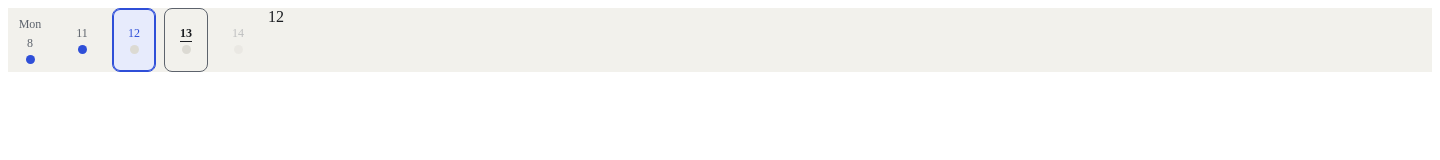
Test case: given day cells › when a cell is selectable › should expose aria-pressed and move it on click
Click the button named "October 11". click: coordinates (82, 40)
box: top-left (60, 8), bottom-right (104, 72)
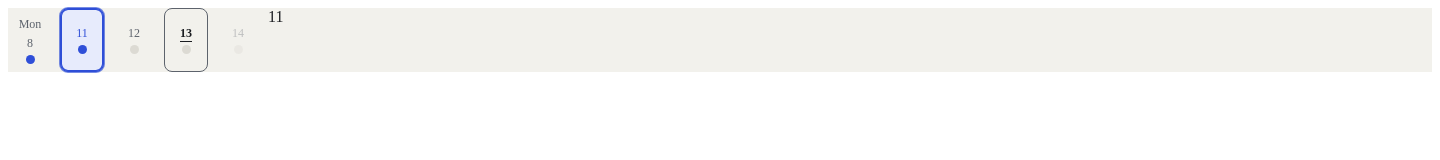
Expected: the text with test id "selected" reads "11", top-left (268, 8), bottom-right (283, 25)
